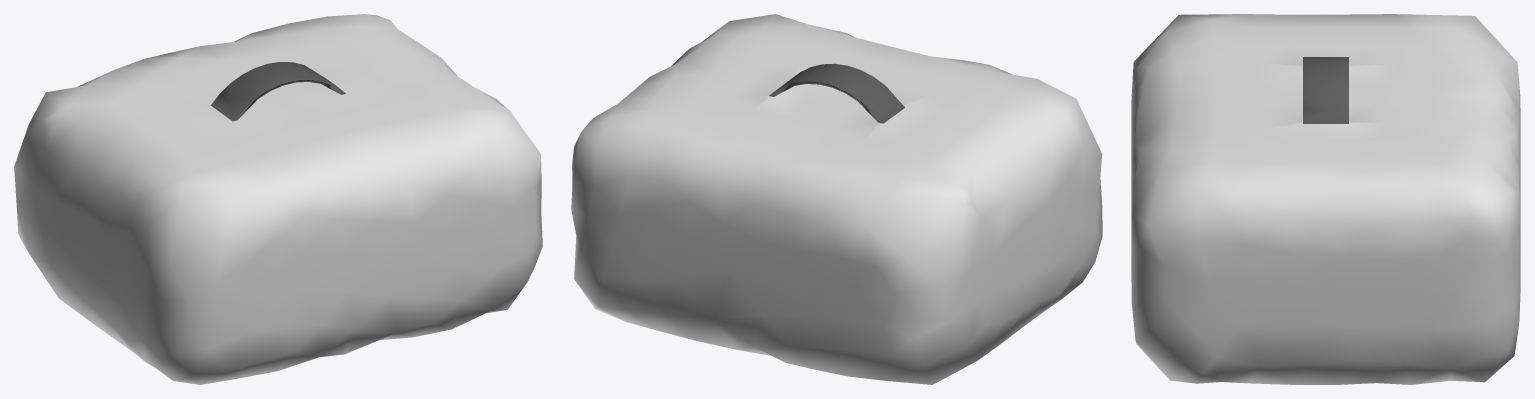
Rendered from front_back_handle.obj.
The picture shows the model from 3 angles, left to right: view 1: azimuth 30°, elevation 25°; view 2: azimuth 150°, elevation 25°; view 3: azimuth 270°, elevation 25°; orthographic projection. The views are drawn at different scales.
Visible parts, largest first — view 1: front_back_handle; view 2: front_back_handle; view 3: front_back_handle.
Boxes of the visible parts, x1,y1,x2,y2 form: front_back_handle: [14, 14, 542, 384]; front_back_handle: [571, 14, 1102, 384]; front_back_handle: [1131, 14, 1520, 384].
Bounding box in the file's own units: 0.5 × 0.32 × 0.42.
